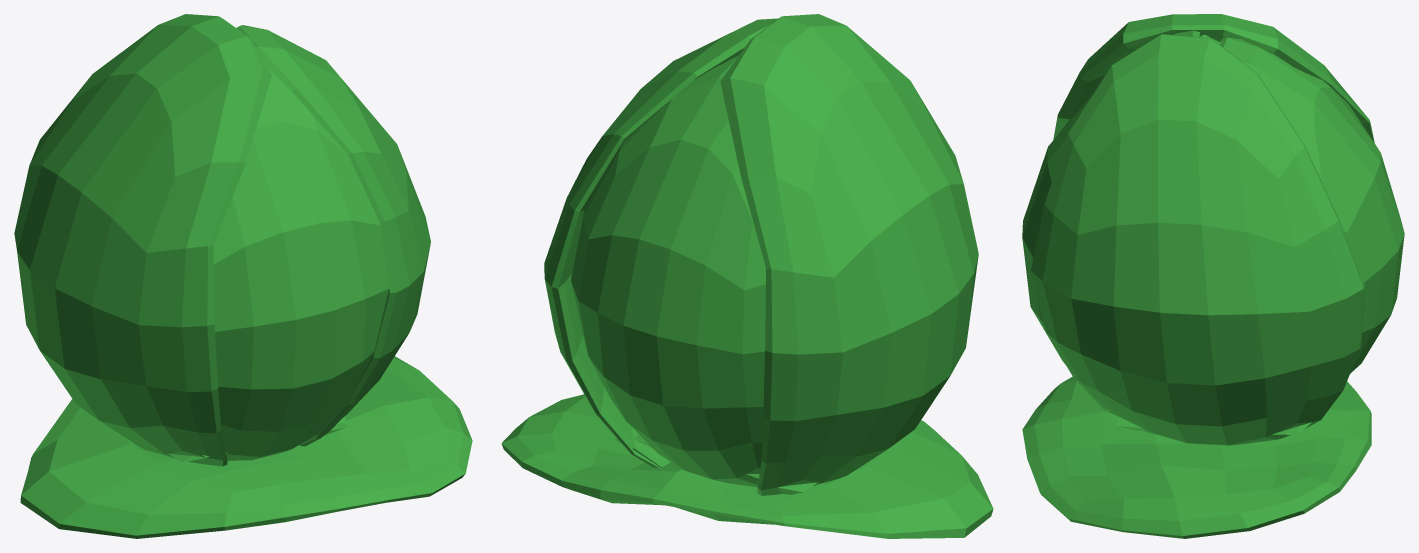
The model's file is Salad.fbx_Collection.fbx.
3 renders of one model, left to right at view 1: azimuth 30°, elevation 25°; view 2: azimuth 150°, elevation 25°; view 3: azimuth 270°, elevation 25°, orthographic. The views are drawn at different scales.
Visible parts, largest first — view 1: Salad Head, Salad Leaf; view 2: Salad Head, Salad Leaf; view 3: Salad Head, Salad Leaf, Salad Stump.
Part boxes in pixels (x1=…): Salad Head: x1=14, y1=14, x2=430, y2=466; Salad Leaf: x1=20, y1=356, x2=472, y2=538; Salad Head: x1=544, y1=14, x2=978, y2=495; Salad Leaf: x1=501, y1=394, x2=993, y2=538; Salad Head: x1=1022, y1=14, x2=1404, y2=445; Salad Leaf: x1=1022, y1=376, x2=1371, y2=538; Salad Stump: x1=1104, y1=407, x2=1311, y2=434.
Size of the model in its own units: 179 by 216 by 218.
